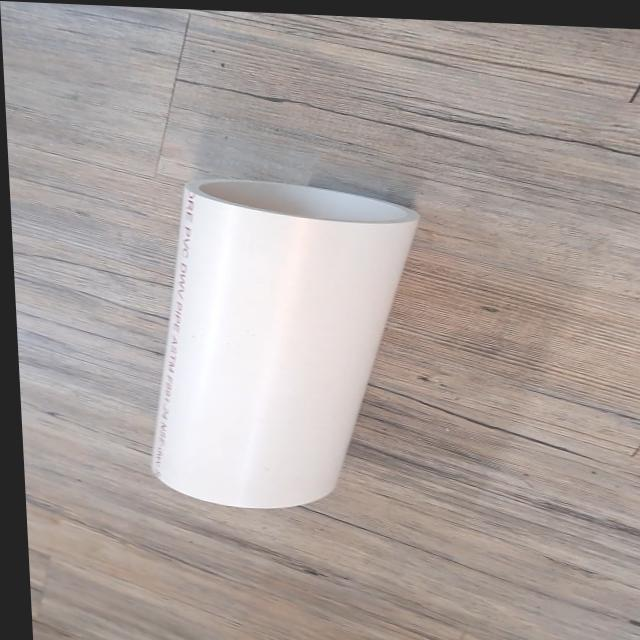CORAL: (124, 165, 446, 523)
